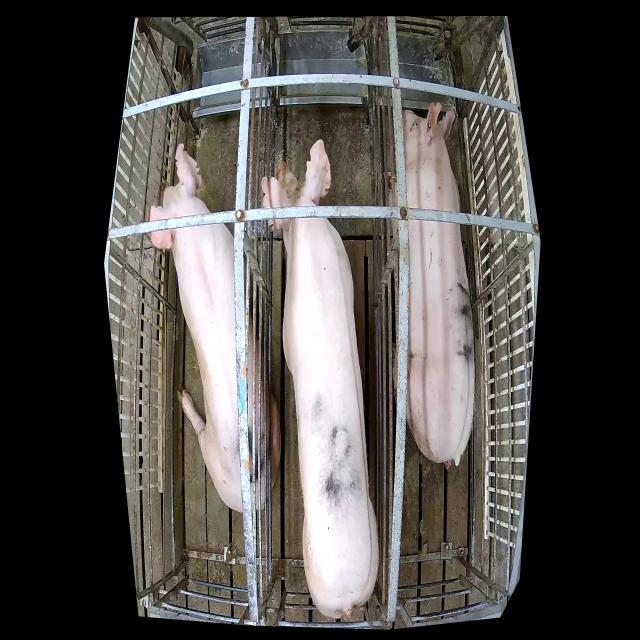pig: (262, 139, 379, 623), (146, 143, 280, 513), (402, 100, 475, 468)
